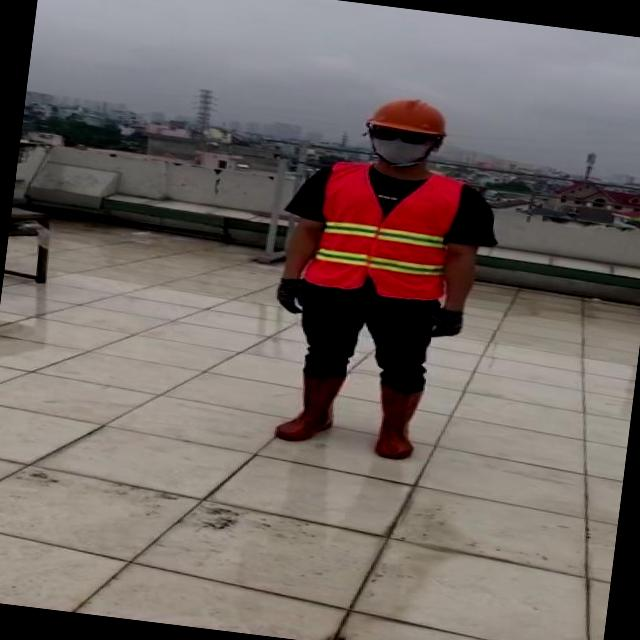boots: (273, 367, 348, 448), (371, 383, 425, 462)
gloves: (268, 263, 318, 328), (421, 297, 472, 344)
helmet: (365, 91, 453, 139)
vest: (300, 156, 467, 306)
